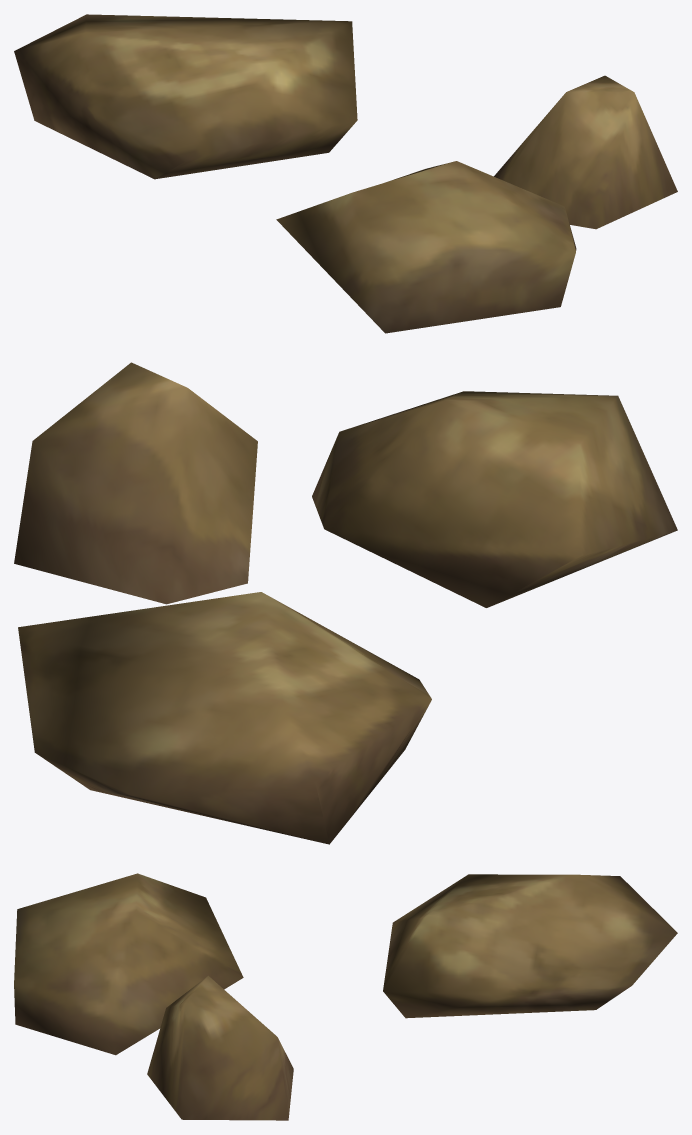
The model's file is Rock3A.fbx.
3 renders of one model, top to bottom at view 1: azimuth 30°, elevation 25°; view 2: azimuth 150°, elevation 25°; view 3: azimuth 270°, elevation 25°, orthographic. The views are drawn at different scales.
Visible parts, largest first — view 1: Rock3A; view 2: Rock3A; view 3: Rock3A.
Boxes of the visible parts, bbox=[...] form: Rock3A: bbox=[14, 14, 677, 333]; Rock3A: bbox=[14, 362, 677, 844]; Rock3A: bbox=[14, 873, 677, 1120].
Size of the model in its own units: 3.17 by 4.78 by 0.8537.
